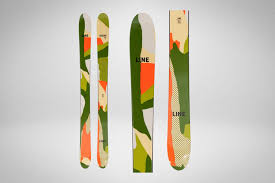skis: (130, 9, 192, 173), (77, 14, 111, 171)
